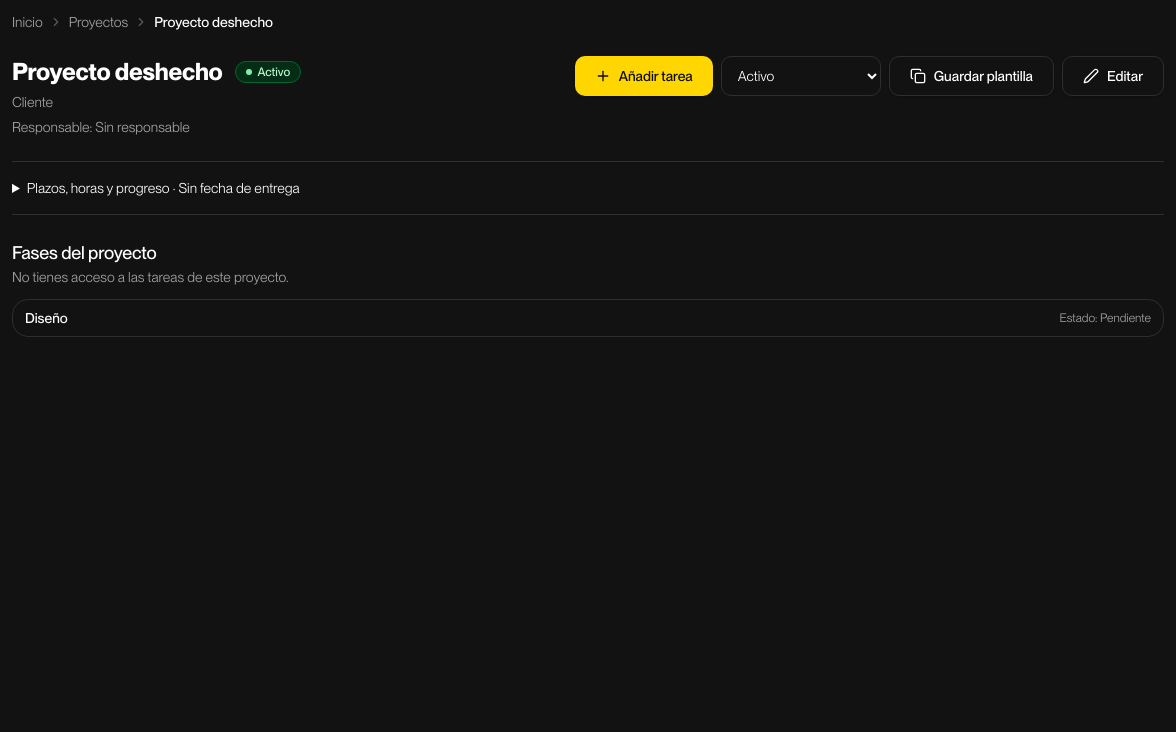
recurring project monthly cycle › does not request or render task cycles for a projects-only reader
expect the text "No tienes acceso a las tareas de este proyecto." is shown: met, box top-left (12, 269), bottom-right (289, 285)
expect the text "Diseño" is shown: met, box top-left (25, 308), bottom-right (68, 328)
Click the heading "Plazos, horas y progreso · Sin fecha de entrega": (163, 188) top-left (27, 180), bottom-right (300, 196)
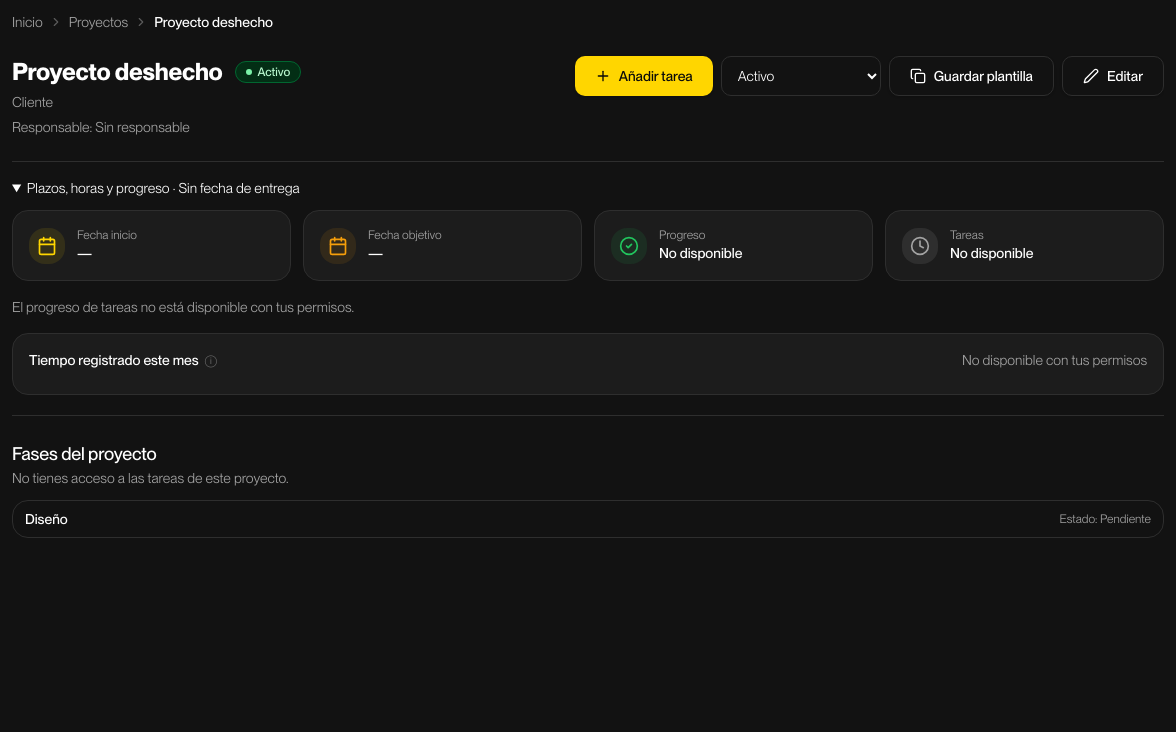
expect the text "El progreso de tareas no está disponible con tus permisos." is shown: met, box top-left (12, 299), bottom-right (354, 315)
expect the text "No disponible con tus permisos" is shown: met, box top-left (962, 350), bottom-right (1147, 370)
